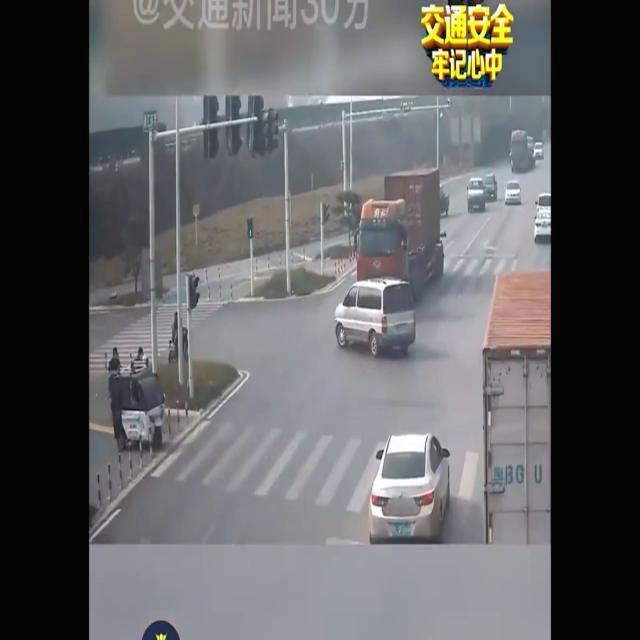non-accident: (334, 165, 444, 361), (512, 131, 544, 173), (468, 173, 498, 213)
